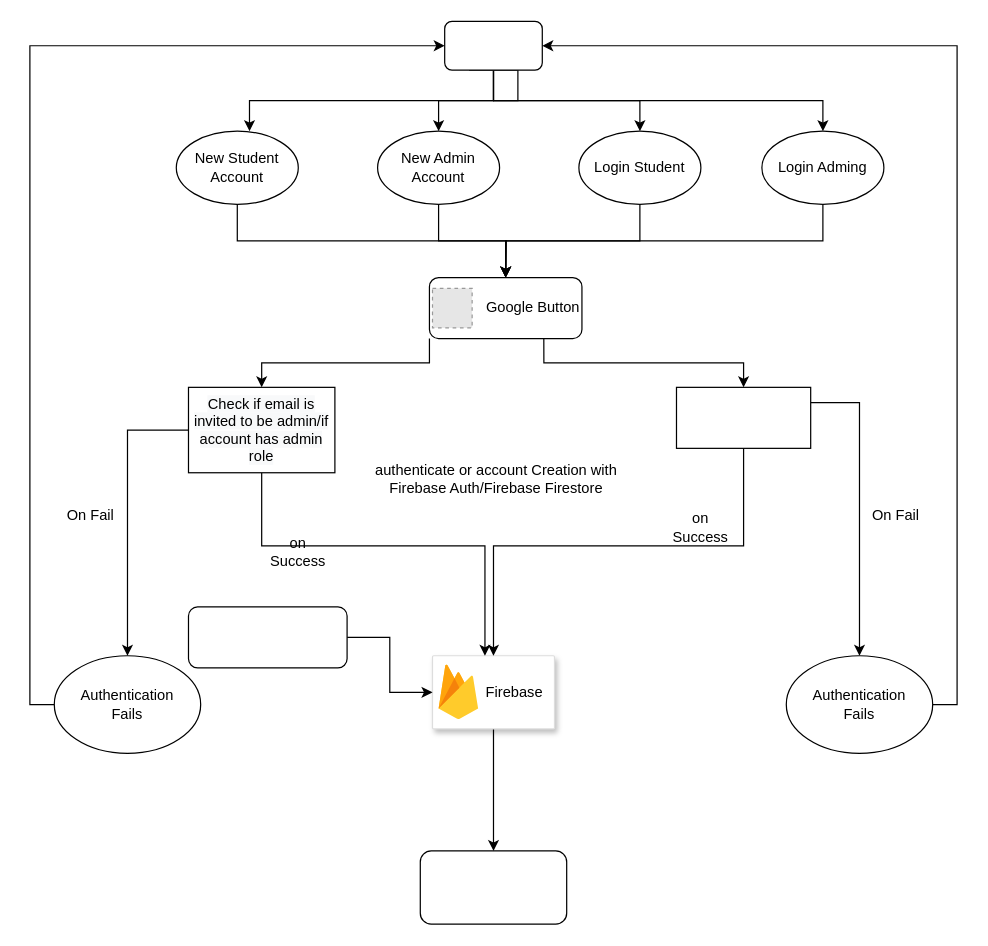
The diagram is 988 pixels wide and 946 high, and some of its shapes have lost their labels. Grey dashed boxes stand in for pictures. Here are the shapes that lost their labels. From the top down, the centre of each, then its label:
At (x=492, y=45): "User".
At (x=743, y=417): "Check if email has BU domain".
At (x=267, y=637): "Existing Admins need to invite users to be admins".
At (x=493, y=887): "Logged in to Spark Portal".
